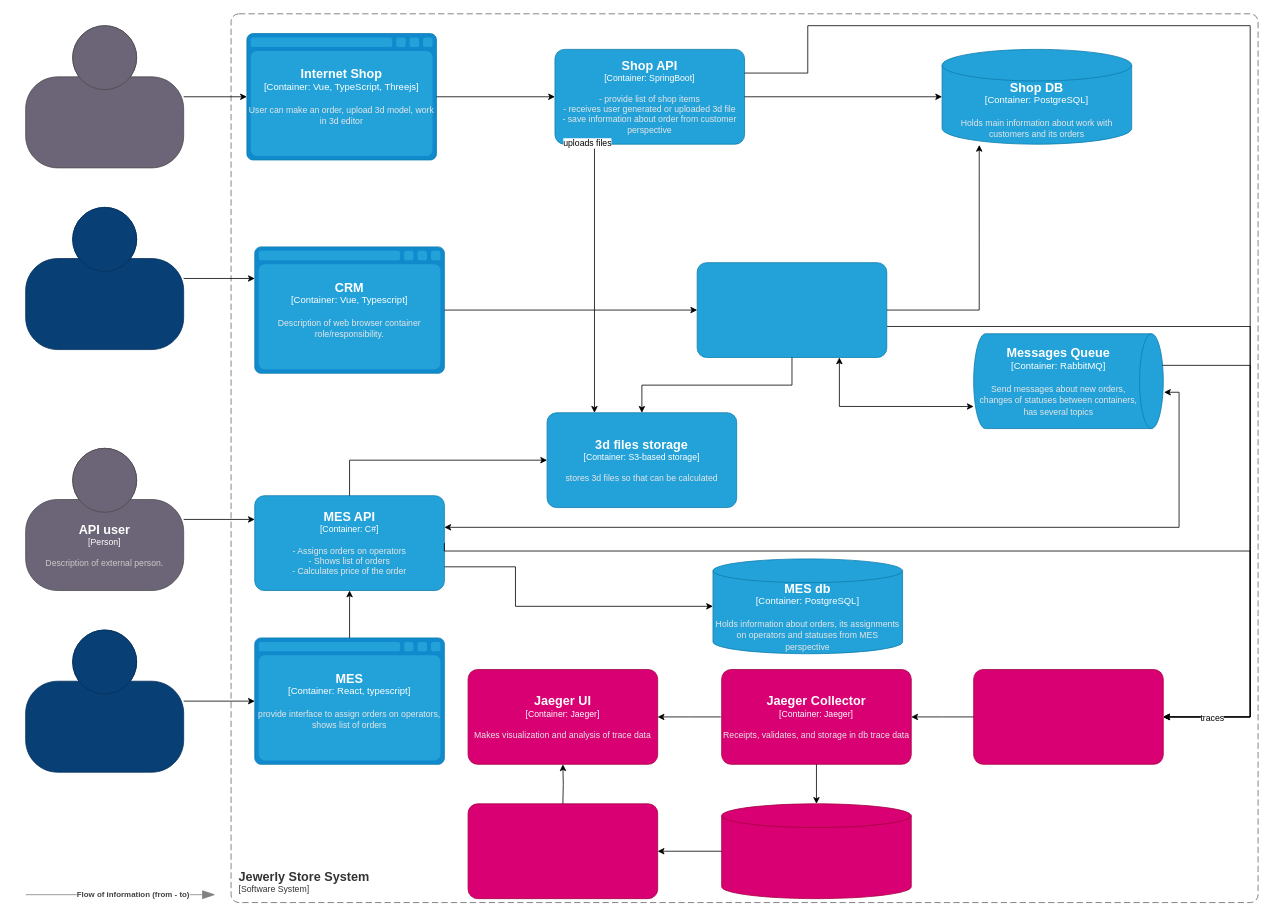
Image size: 1272x921. Some labels were removed from this diagram. Each missing label, with the centre of its shape:
"CRM API [Container: SpringBoot] Description of container role/responsibility." belongs at point 791,309.
"Customer [Person] Description of external person." belongs at point 104,96.
"Jaeger db [Container: Elasticsearch] Holds trace data" belongs at point 816,851.
"OpenTelemetry Collector [Container: OpenTelemetry] Aggregates traces" belongs at point 1068,716.
"Operator [Person] Takes order in work, manufactures jewerly" belongs at point 104,700.
"Query Service [Container: Jaeger] Finds, filters trace data from db" belongs at point 562,851.
"Seller [Person] Operates with order, confirms manufacturing for the user" belongs at point 104,278.
